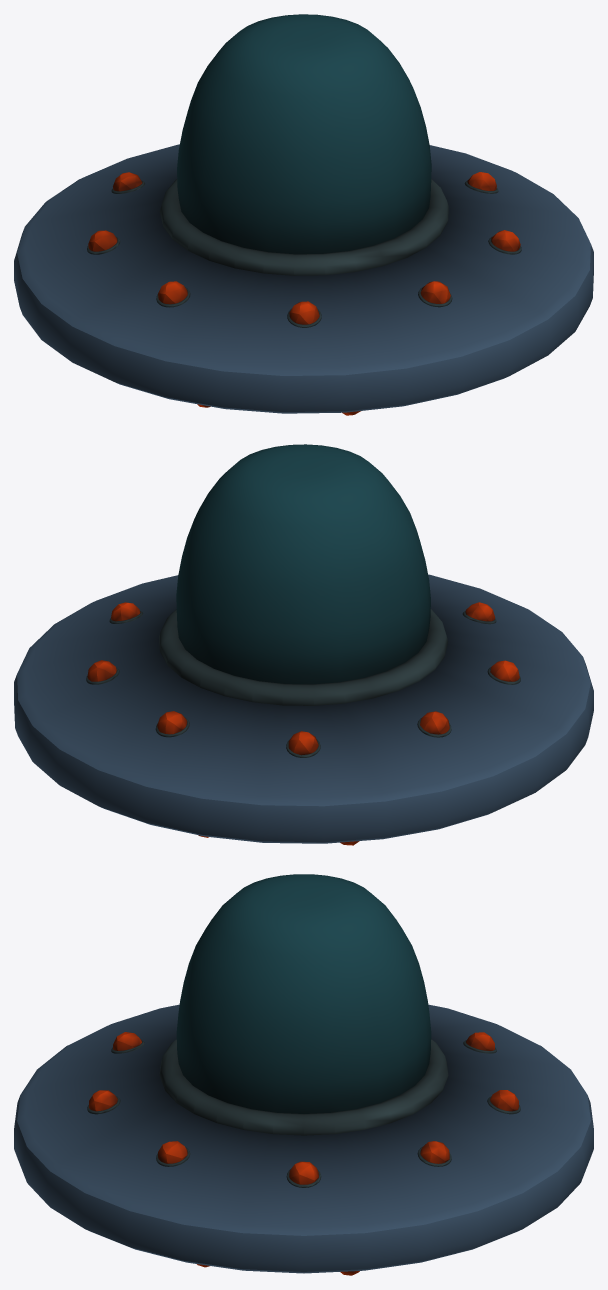
File: UFO.fbx
The picture shows the model from 3 angles, top to bottom: view 1: azimuth 30°, elevation 25°; view 2: azimuth 150°, elevation 25°; view 3: azimuth 270°, elevation 25°; orthographic projection.
Parts seen in each view (by area): view 1: ufo_high; view 2: ufo_high; view 3: ufo_high.
Boxes of the visible parts, bbox=[...] form: ufo_high: bbox=[14, 14, 593, 415]; ufo_high: bbox=[14, 444, 593, 845]; ufo_high: bbox=[14, 874, 593, 1275].
Size of the model in its own units: 2.57 by 1.66 by 2.58.
